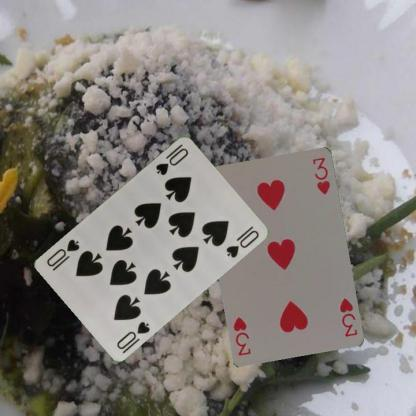10s: (152, 141, 190, 176), (114, 318, 151, 350)
3h: (336, 295, 358, 338)
